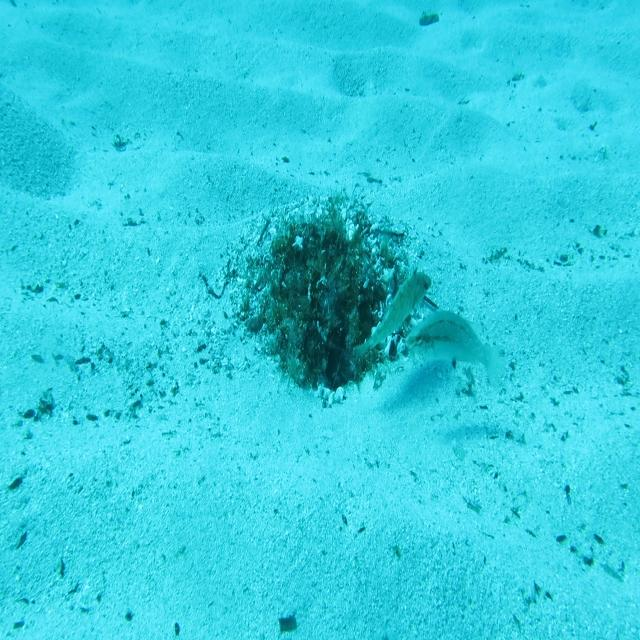ROLL: (352, 260, 432, 366)
core_nest: (293, 230, 349, 278)
female: (401, 308, 511, 393)
nest: (220, 178, 438, 425)
vegetation: (417, 10, 439, 25), (280, 613, 296, 632)
